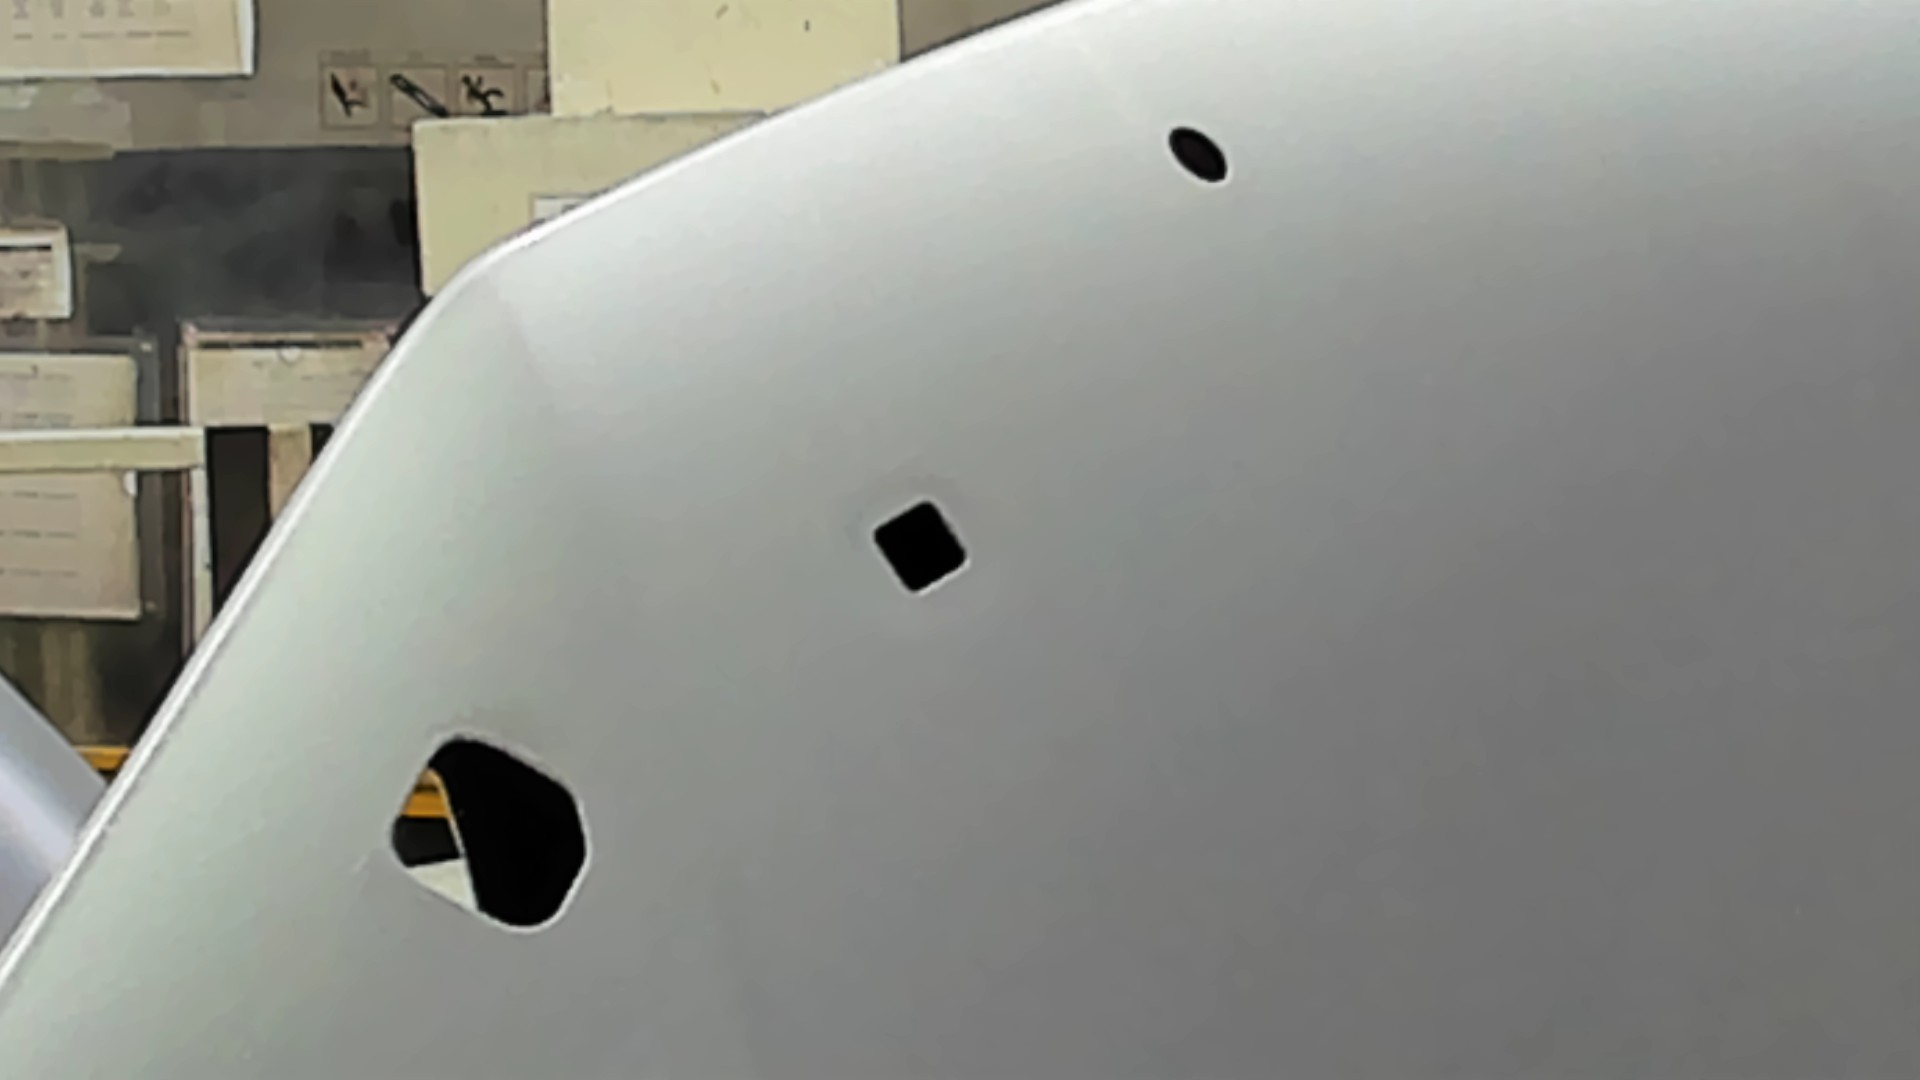chico: (1164, 120, 1236, 190)
grande: (381, 723, 599, 944)
mediano: (864, 487, 975, 603)
